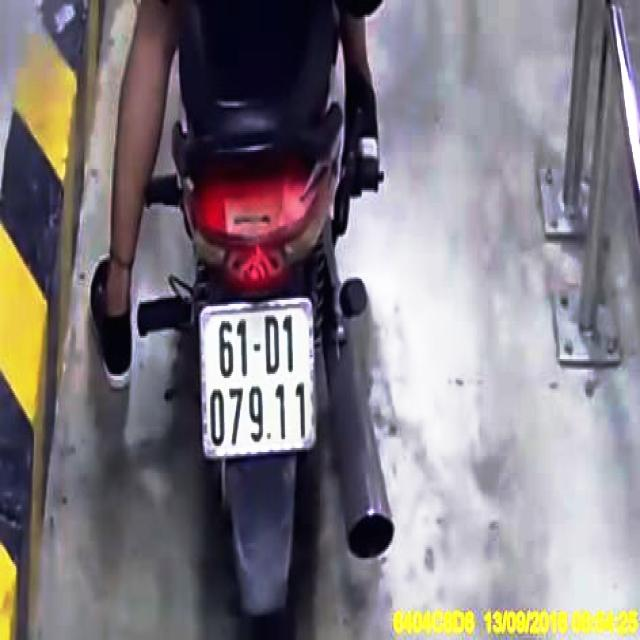license_plate: (203, 307, 319, 457)
